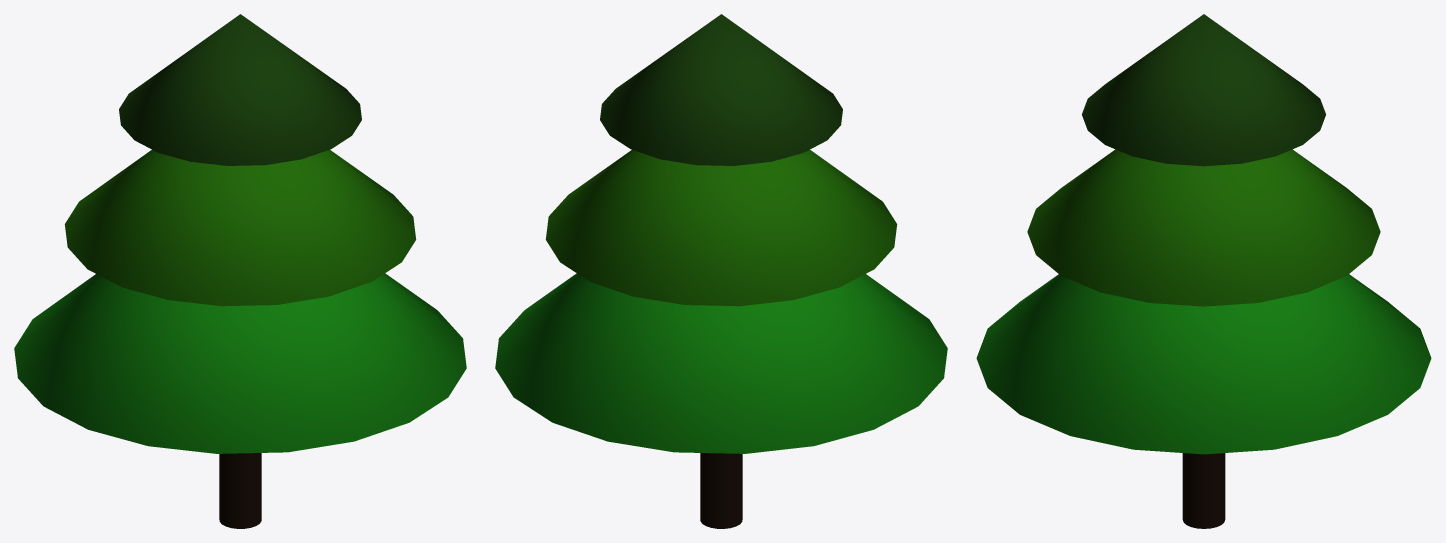
The model's file is Tree (1).FBX.
3 views of the same model, side by side, from view 1: azimuth 30°, elevation 25°; view 2: azimuth 150°, elevation 25°; view 3: azimuth 270°, elevation 25° (orthographic).
Parts seen in each view (by area): view 1: Tree; view 2: Tree; view 3: Tree.
Part boxes in pixels (x1,y1,x2,y2): Tree: [14, 14, 466, 528]; Tree: [495, 14, 947, 528]; Tree: [976, 14, 1431, 528].
Size of the model in its own units: 159 by 195 by 159.
